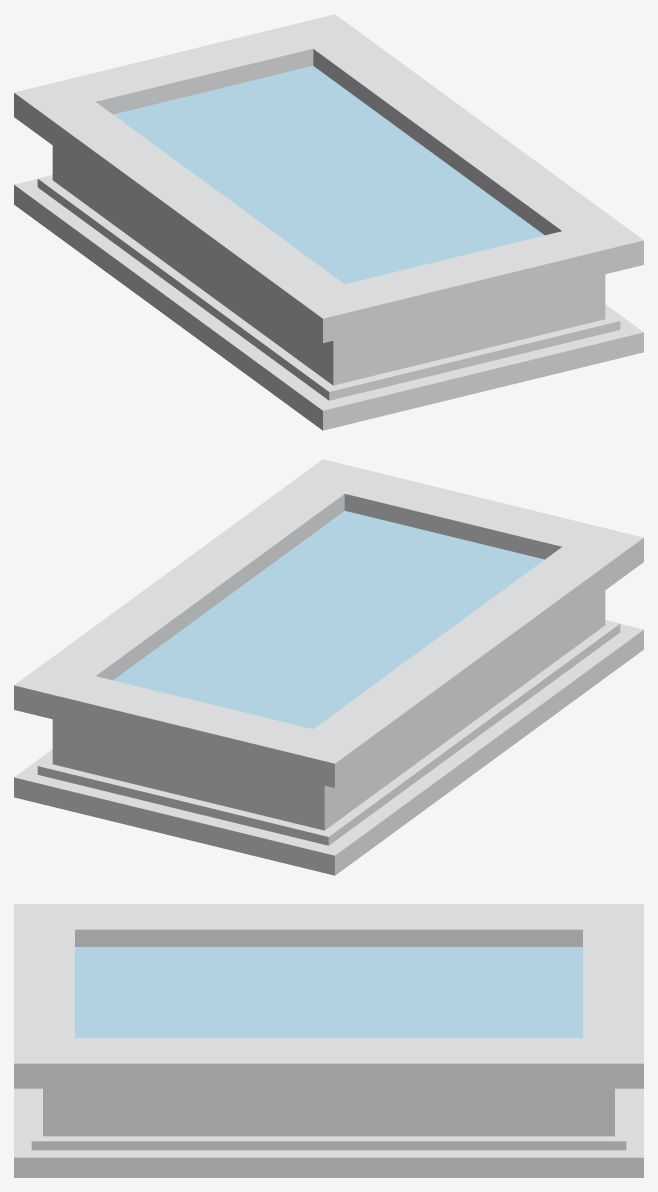
Rendered from Fountain.fbx.
3 renders of one model, top to bottom at view 1: azimuth 30°, elevation 25°; view 2: azimuth 150°, elevation 25°; view 3: azimuth 270°, elevation 25°, orthographic.
Parts seen in each view (by area): view 1: Fountain; view 2: Fountain; view 3: Fountain.
Part boxes in pixels (x1=…): Fountain: x1=14, y1=14, x2=643, y2=430; Fountain: x1=14, y1=459, x2=643, y2=875; Fountain: x1=14, y1=904, x2=643, y2=1177.
Bounding box in the file's own units: 660 × 220 × 1100.
